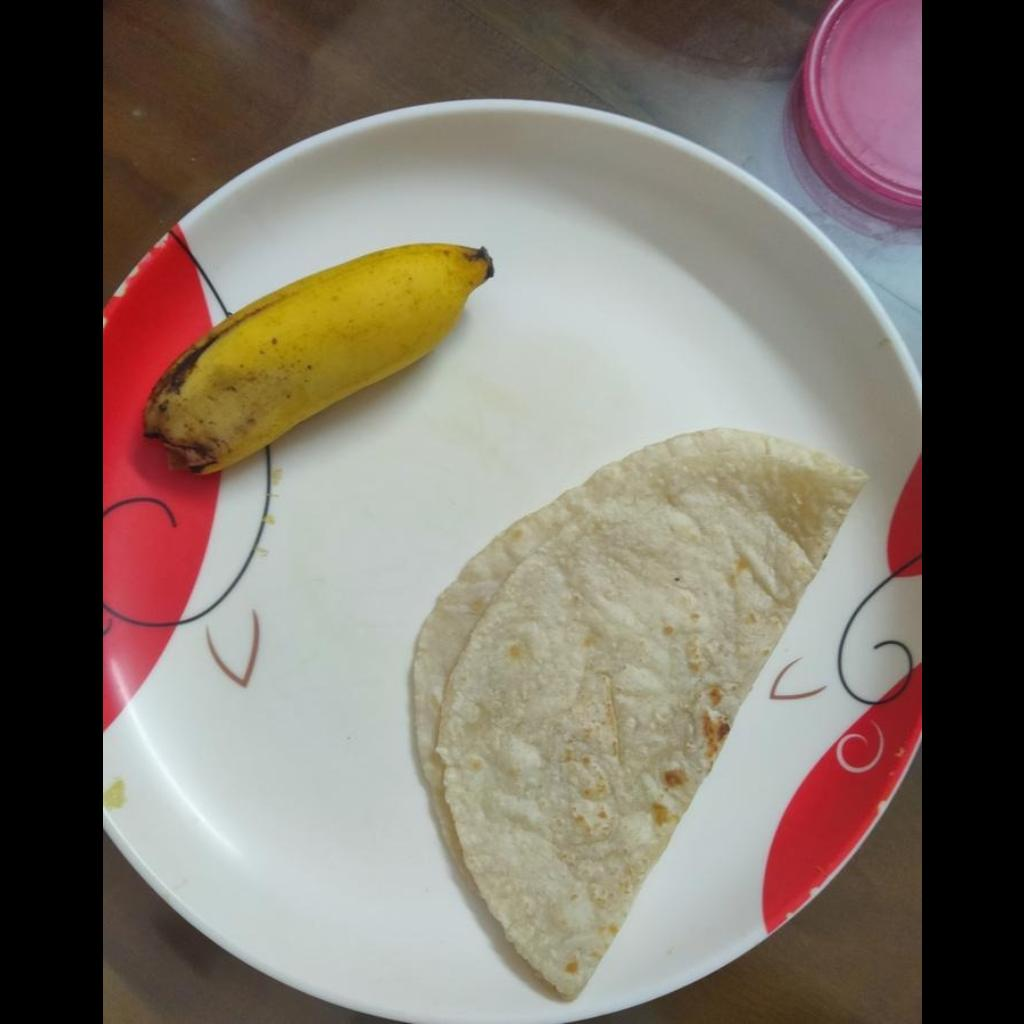banana: (147, 242, 498, 479)
ruti: (410, 429, 867, 1000)
